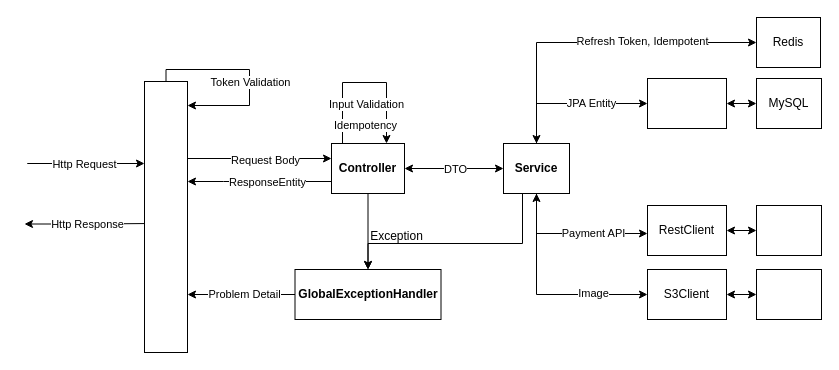
This 839x370 diagram has some shape labels left out. Each missing label, with the centre of its shape:
AWS S3: the point at 789,294
Filter: the point at 166,216
KakaoPay: the point at 789,230
Repository: the point at 686,103
